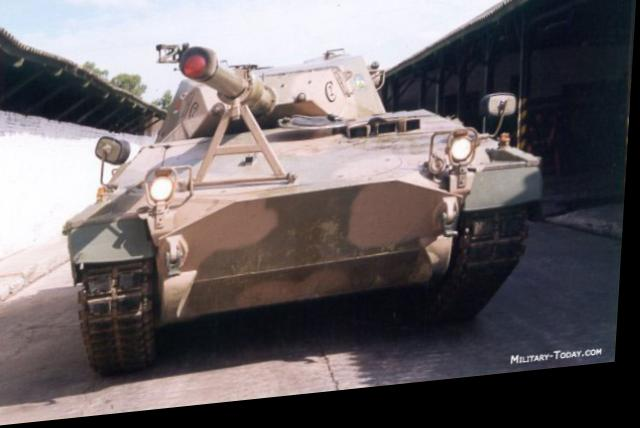tank: (71, 22, 542, 368)
